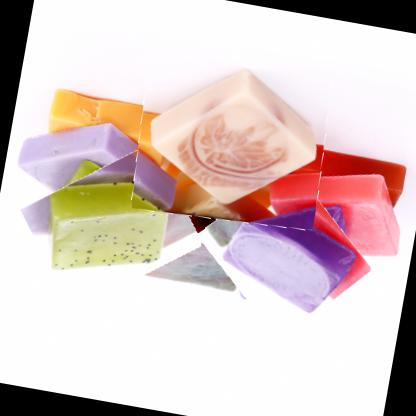soap: (124, 40, 338, 236), (16, 140, 206, 313), (194, 166, 374, 338)
